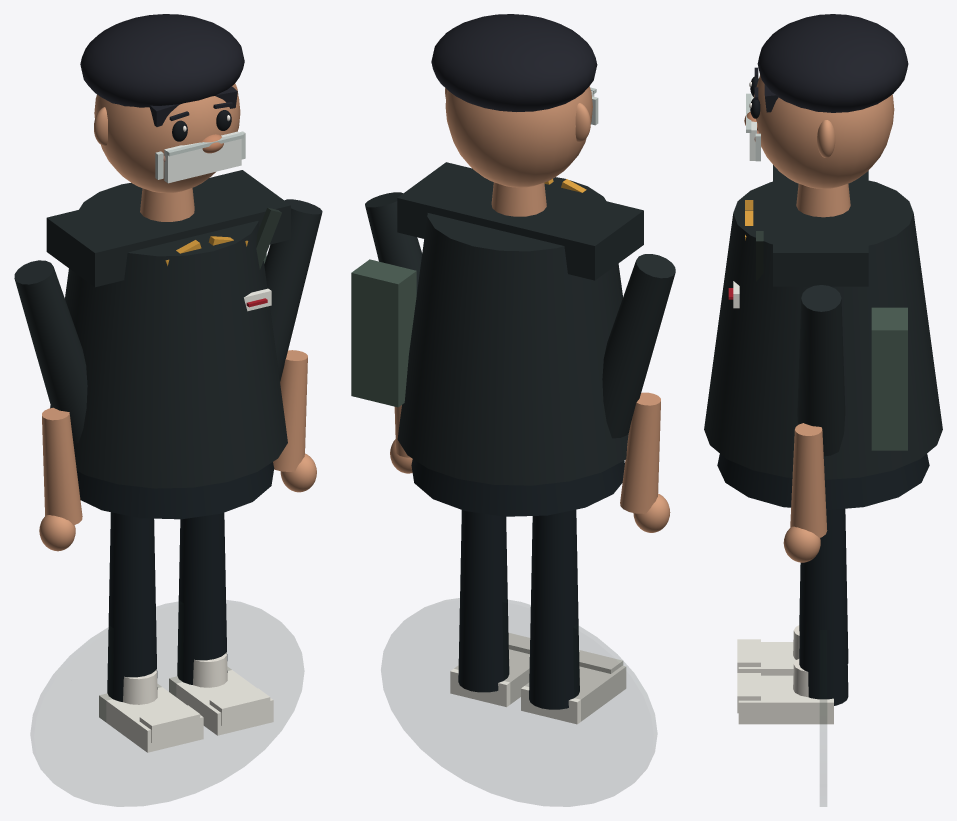
Rendered from player_male_black_mask.glb.
3 views of the same model, side by side, from view 1: azimuth 30°, elevation 25°; view 2: azimuth 150°, elevation 25°; view 3: azimuth 270°, elevation 25° (orthographic). The views are drawn at different scales.
Parts seen in each view (by area): view 1: torso, contact_shadow, hair_cap, shoulder_line, leg_-0.075, leg_0.075, upper_arm_-0.235, head, hip, upper_arm_0.235, forearm_-0.235, shoe_-0.075 (+11 smaller); view 2: torso, contact_shadow, hair_cap, shoulder_line, leg_-0.075, head, leg_0.075, shoulder_bag, upper_arm_-0.235, hip, forearm_-0.235, upper_arm_0.235 (+5 smaller); view 3: torso, hair_cap, head, shoulder_line, leg_0.075, upper_arm_0.235, shoulder_bag, hip, forearm_0.235, shoe_0.075, neck, shoe_-0.075 (+6 smaller).
Part boxes in pixels (left/top/right/bottom): torso: left=50, top=183, right=287, bottom=488; contact_shadow: left=31, top=600, right=303, bottom=806; hair_cap: left=80, top=14, right=244, bottom=107; shoulder_line: left=46, top=170, right=290, bottom=287; leg_-0.075: left=107, top=512, right=157, bottom=701; leg_0.075: left=177, top=513, right=227, bottom=684; upper_arm_-0.235: left=14, top=260, right=87, bottom=443; head: left=94, top=84, right=240, bottom=193; hip: left=77, top=462, right=274, bottom=519; upper_arm_0.235: left=264, top=199, right=322, bottom=381; forearm_-0.235: left=42, top=407, right=82, bottom=525; shoe_-0.075: left=99, top=683, right=203, bottom=752; torso: left=397, top=177, right=628, bottom=485; contact_shadow: left=381, top=598, right=656, bottom=806; hair_cap: left=431, top=14, right=597, bottom=111; shoulder_line: left=397, top=162, right=643, bottom=280; leg_-0.075: left=529, top=509, right=579, bottom=709; head: left=445, top=86, right=592, bottom=187; leg_0.075: left=458, top=510, right=509, bottom=692; shoulder_bag: left=351, top=259, right=416, bottom=407; upper_arm_-0.235: left=602, top=254, right=675, bottom=438; hip: left=411, top=459, right=624, bottom=516; forearm_-0.235: left=620, top=392, right=660, bottom=513; upper_arm_0.235: left=365, top=192, right=422, bottom=293; torso: left=704, top=180, right=942, bottom=479; hair_cap: left=757, top=14, right=908, bottom=112; head: left=753, top=75, right=894, bottom=188; shoulder_line: left=773, top=165, right=868, bottom=286; leg_0.075: left=799, top=508, right=848, bottom=705; upper_arm_0.235: left=797, top=285, right=845, bottom=456; shoulder_bag: left=871, top=307, right=907, bottom=450; hip: left=717, top=454, right=929, bottom=510; forearm_0.235: left=790, top=423, right=827, bottom=537; shoe_0.075: left=738, top=675, right=833, bottom=724; neck: left=796, top=184, right=850, bottom=217; shoe_-0.075: left=738, top=642, right=796, bottom=675.
Bounding box in the file's own units: 0.675 × 1.64 × 0.468.
